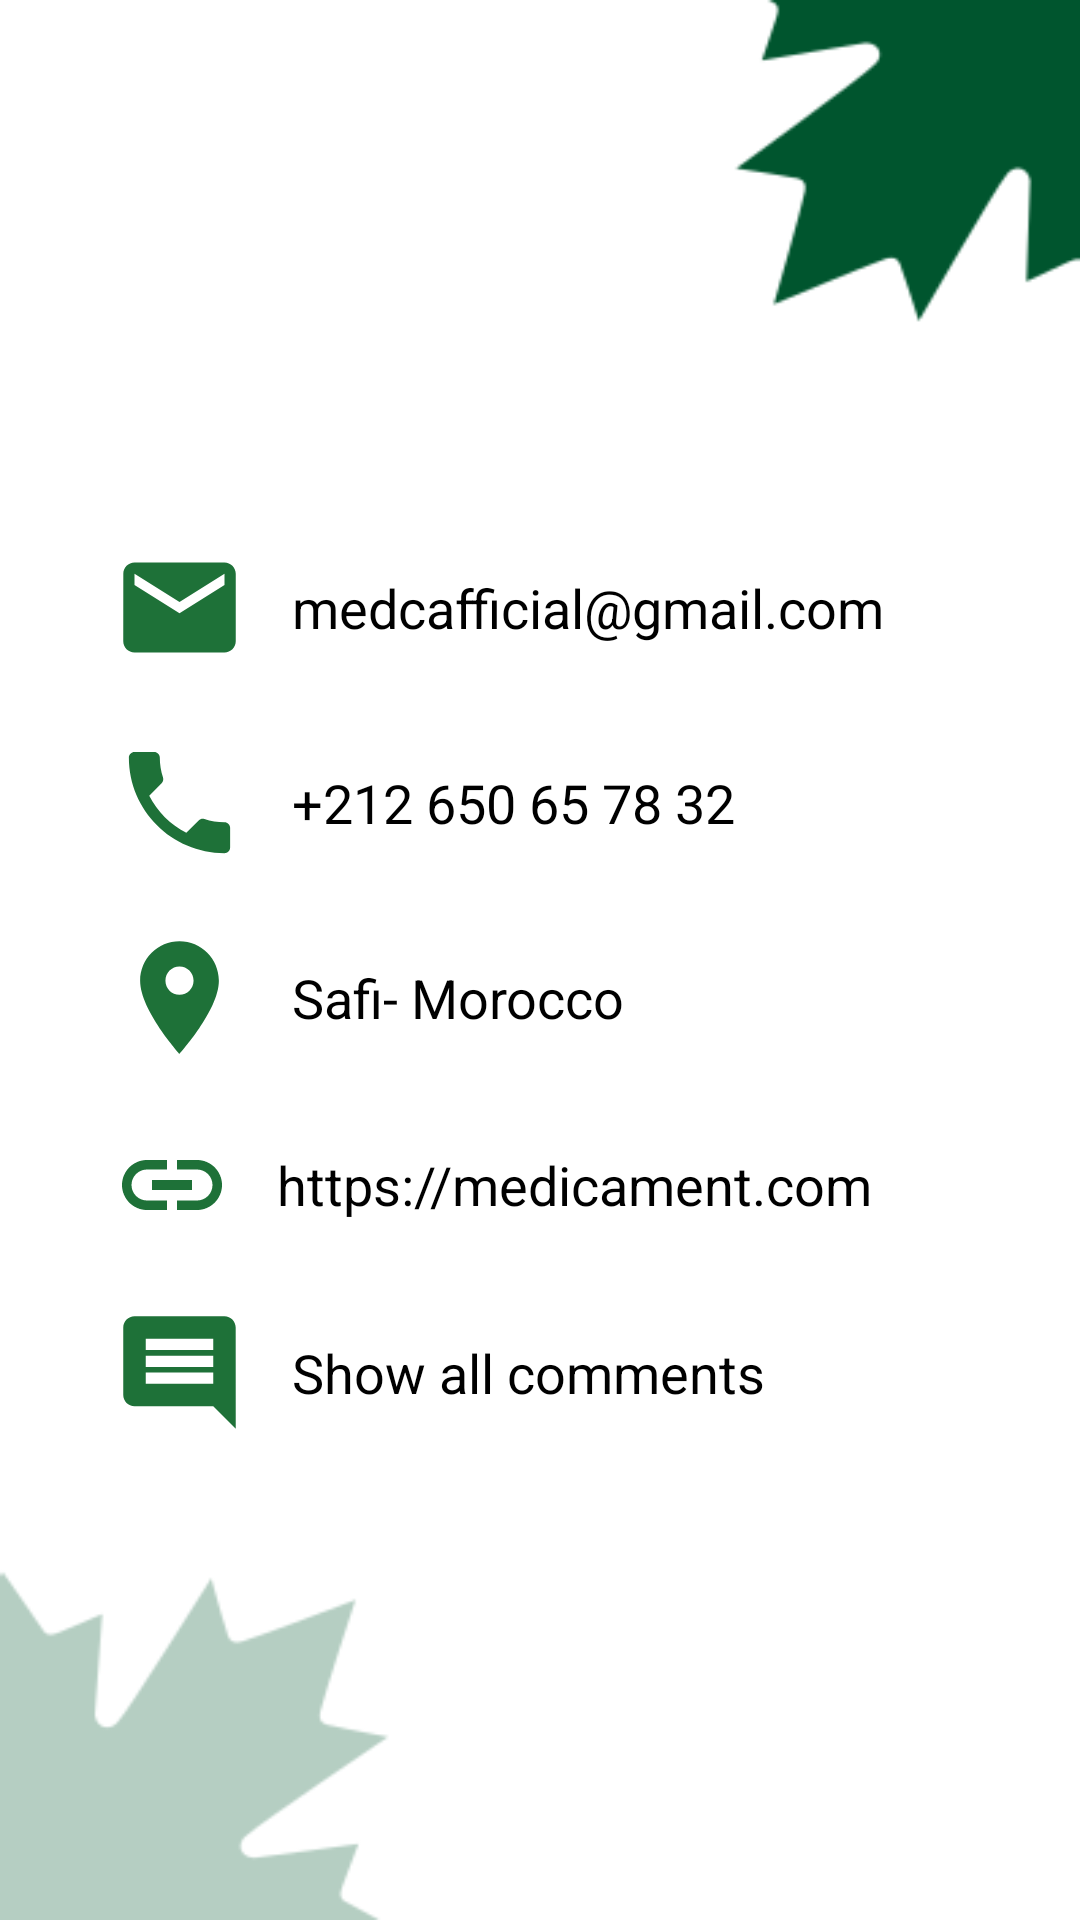

Icon click points for this 1080 × 1920 phone screenshot, format point (x, y):
email: point (179, 607)
insert link: point (172, 1185)
local phone: point (179, 803)
location on: point (179, 997)
